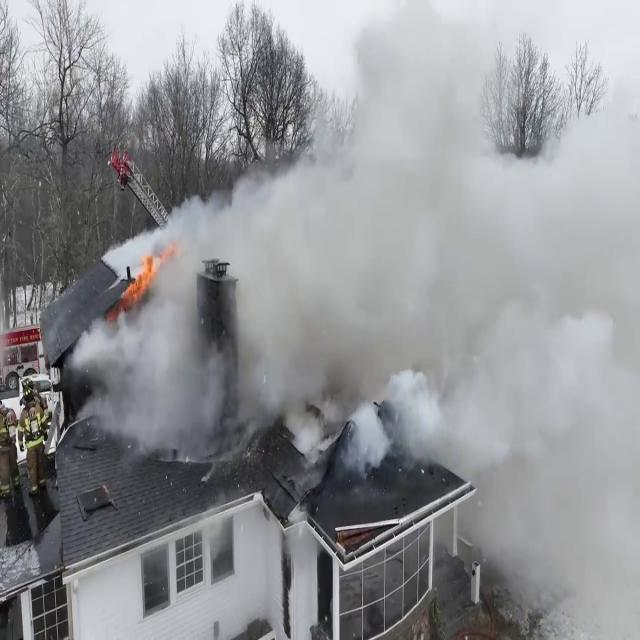Fire: (126, 248, 162, 309)
Smoke: (84, 2, 640, 462)
